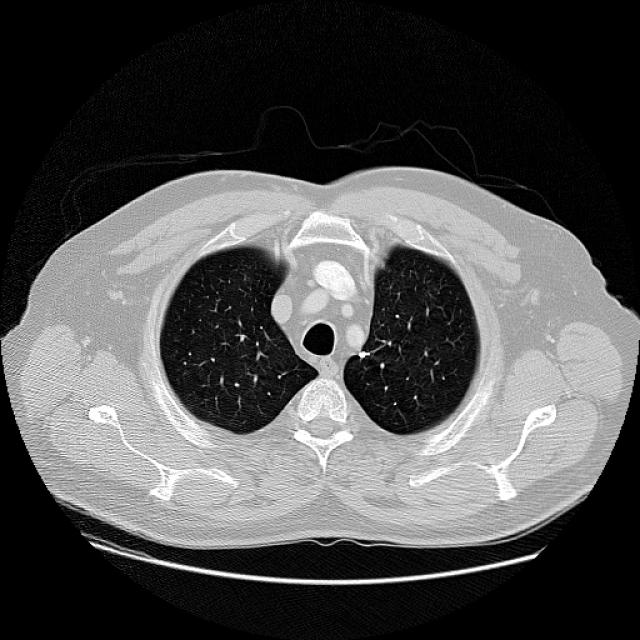nodule: (350, 343, 372, 365)
